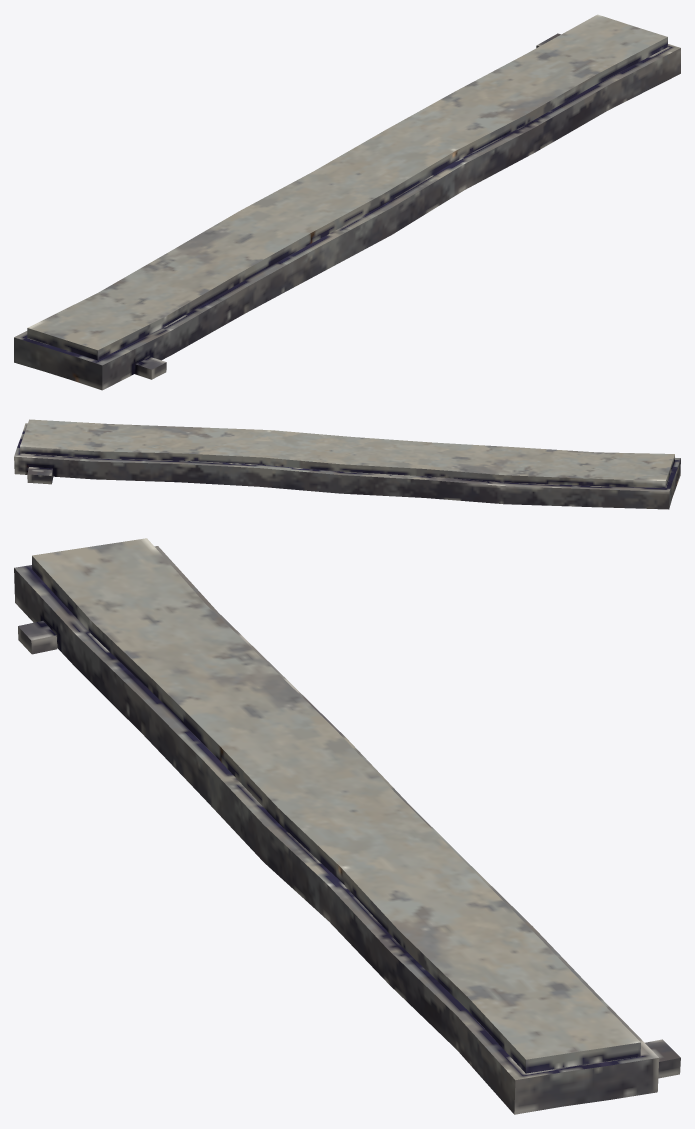
The picture shows the model from 3 angles, top to bottom: view 1: azimuth 30°, elevation 25°; view 2: azimuth 150°, elevation 25°; view 3: azimuth 270°, elevation 25°; orthographic projection. The views are drawn at different scales.
Parts seen in each view (by area): view 1: Footing; view 2: Footing; view 3: Footing.
Part boxes in pixels (bbox=[...]): Footing: bbox=[14, 14, 680, 390]; Footing: bbox=[14, 419, 680, 509]; Footing: bbox=[14, 538, 680, 1114].
Bounding box in the file's own units: 11.94 × 0.6263 × 6.31.
1 material, 1 textured.
